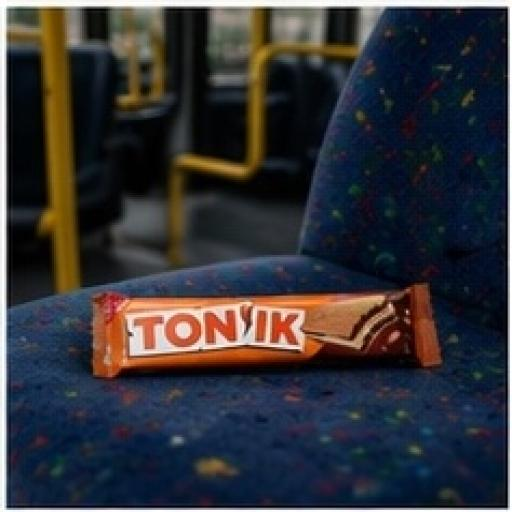tonik: (44, 248, 505, 452)
